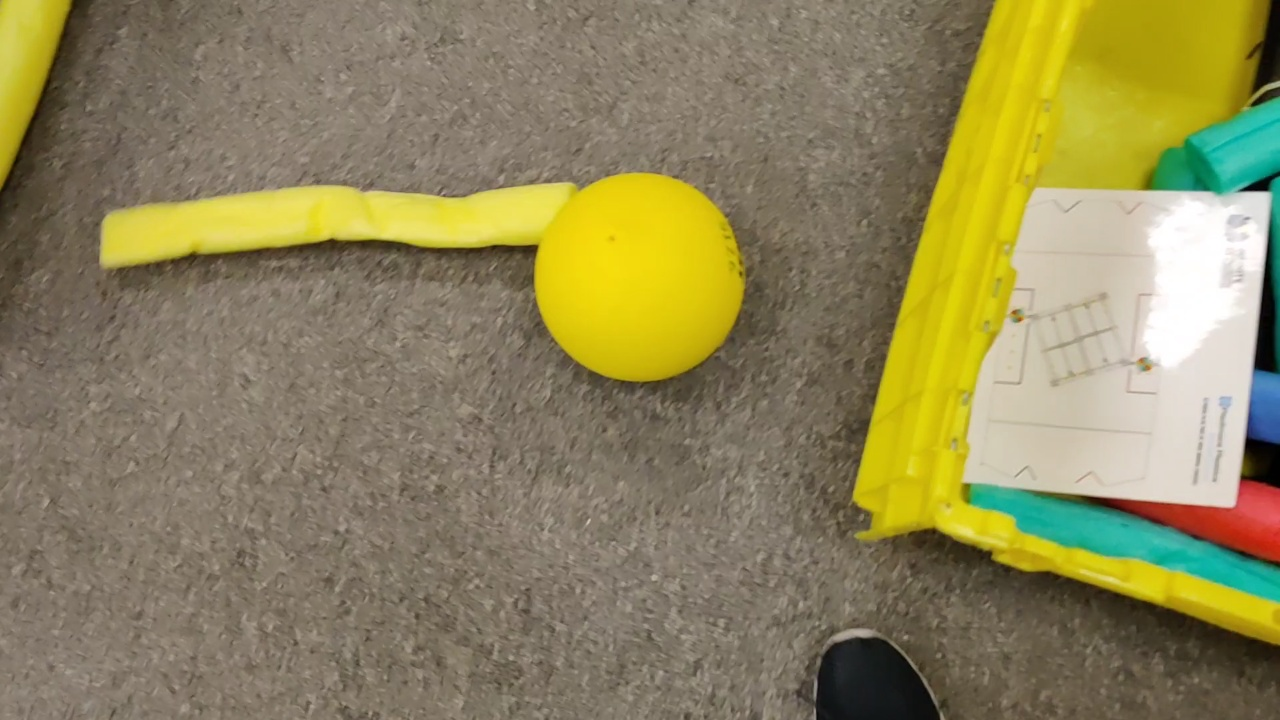Ball: (534, 174, 748, 388)
